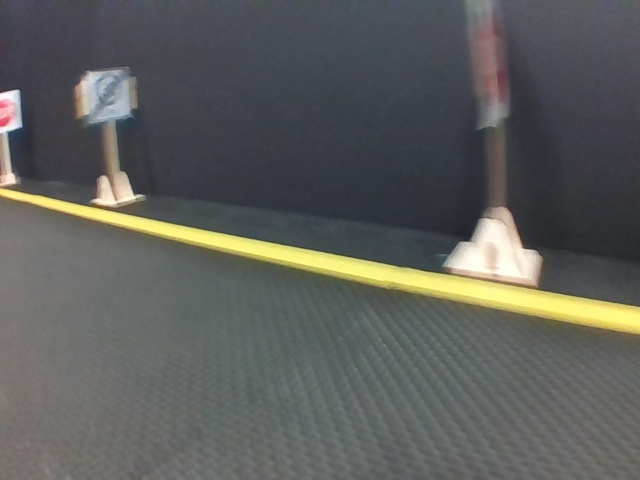no30: (88, 70, 129, 117)
stop: (477, 10, 506, 123), (1, 92, 17, 130)
